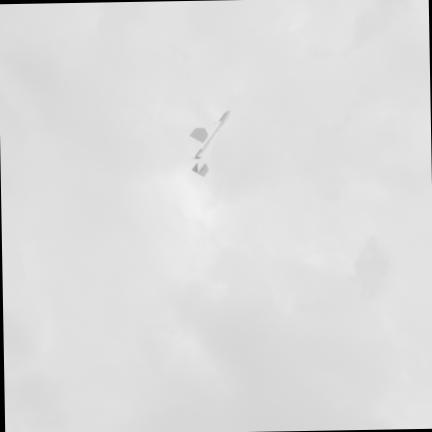Shahed: (189, 110, 229, 176)
